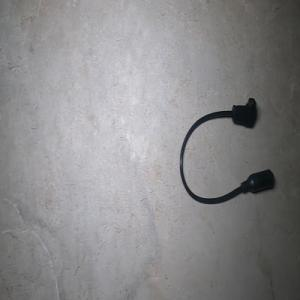Wire: (179, 97, 274, 204)
